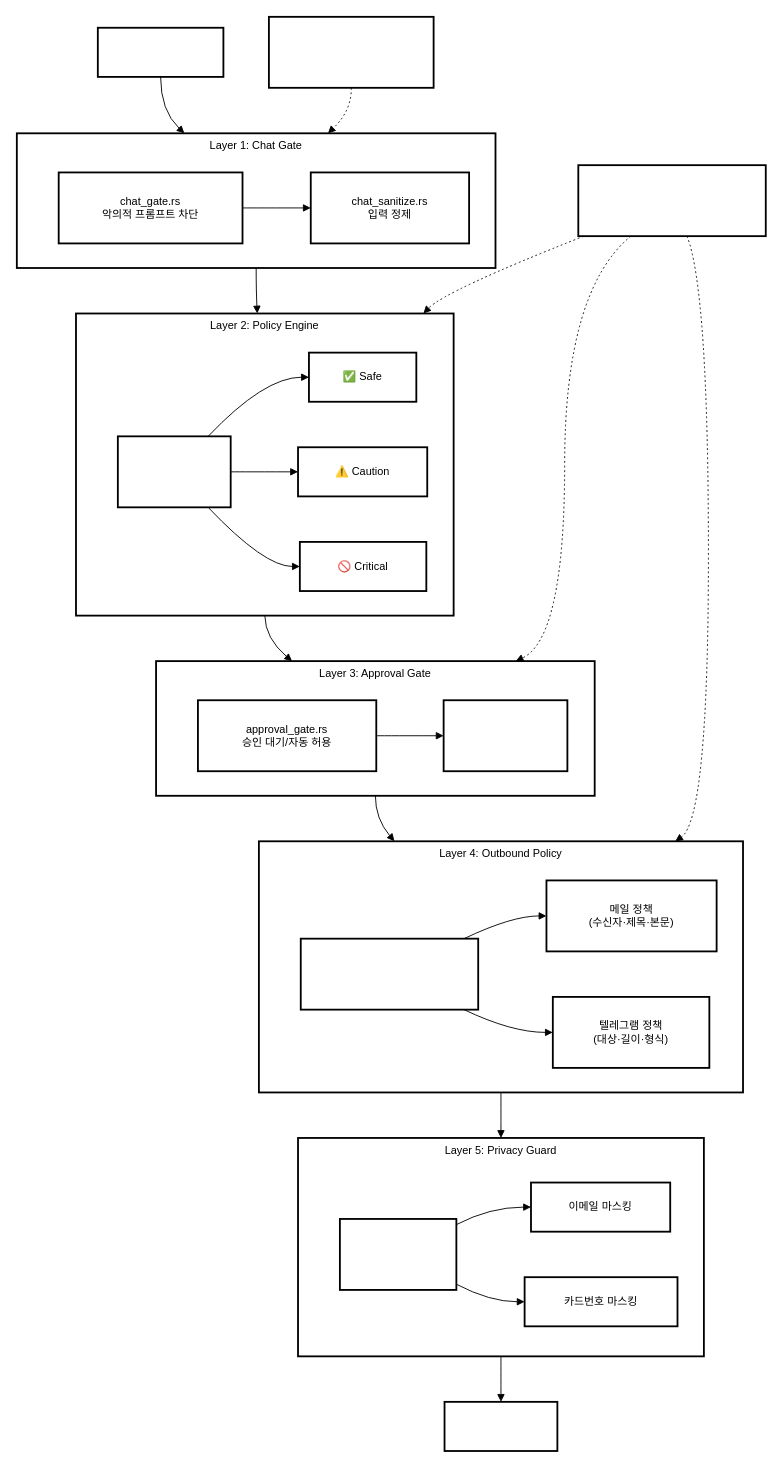
This 782x1467 diagram has some shape labels left out. Each missing label, with the centre of its shape:
diagnostic_events.rs 감사 로그 (JSONL): pixel 671 200
outbound_policy.rs 외부 발신 검사: pixel 389 973
policy.rs 액션 분류: pixel 173 471
privacy.rs PII 마스킹: pixel 398 1254
singleton_lock.rs 중복 실행 방지: pixel 351 51
Write Lock (기본 ON): pixel 505 735
사용자 입력: pixel 160 51
실행 허용: pixel 500 1425
